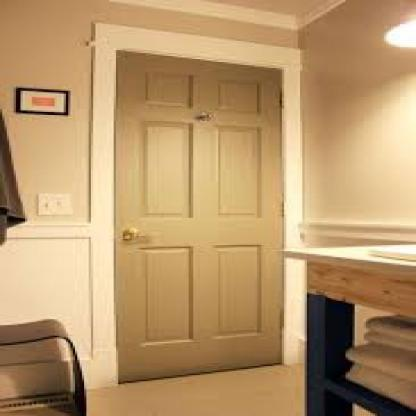door: (111, 39, 291, 357)
